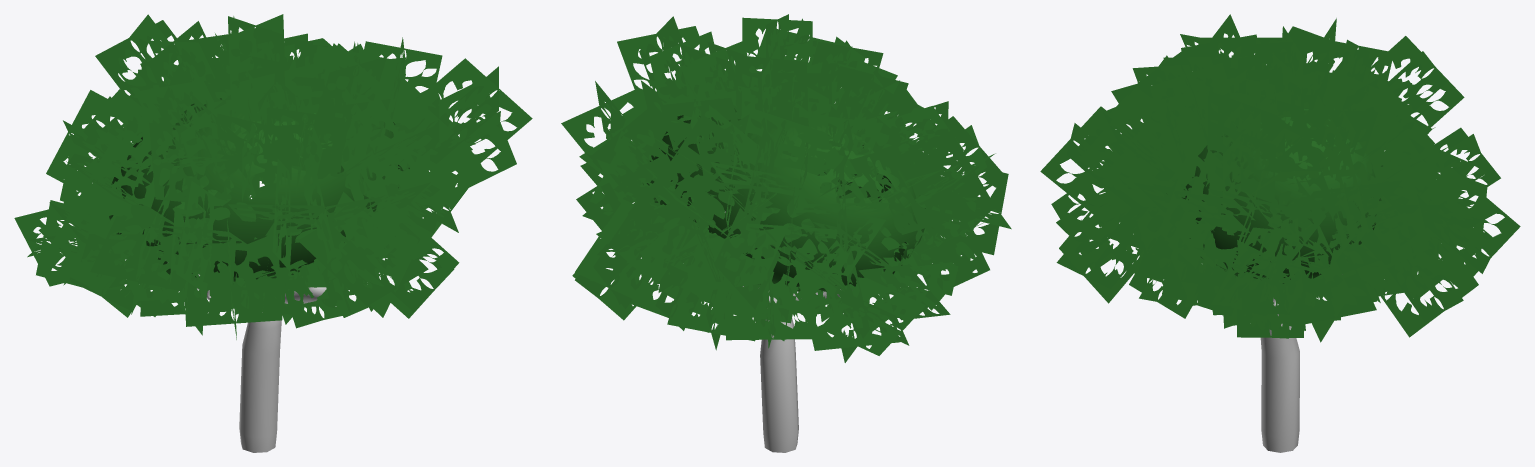
Rendered from SM_Tree3.fbx.
3 renders of one model, left to right at view 1: azimuth 30°, elevation 25°; view 2: azimuth 150°, elevation 25°; view 3: azimuth 270°, elevation 25°, orthographic. The views are drawn at different scales.
Visible parts, largest first — view 1: Object002; view 2: Object002; view 3: Object002.
Boxes of the visible parts, <box> form: Object002: <box>14,14,532,452</box>; Object002: <box>561,14,1011,452</box>; Object002: <box>1040,14,1520,452</box>.
Bounding box in the file's own units: 438 × 380 × 406.
